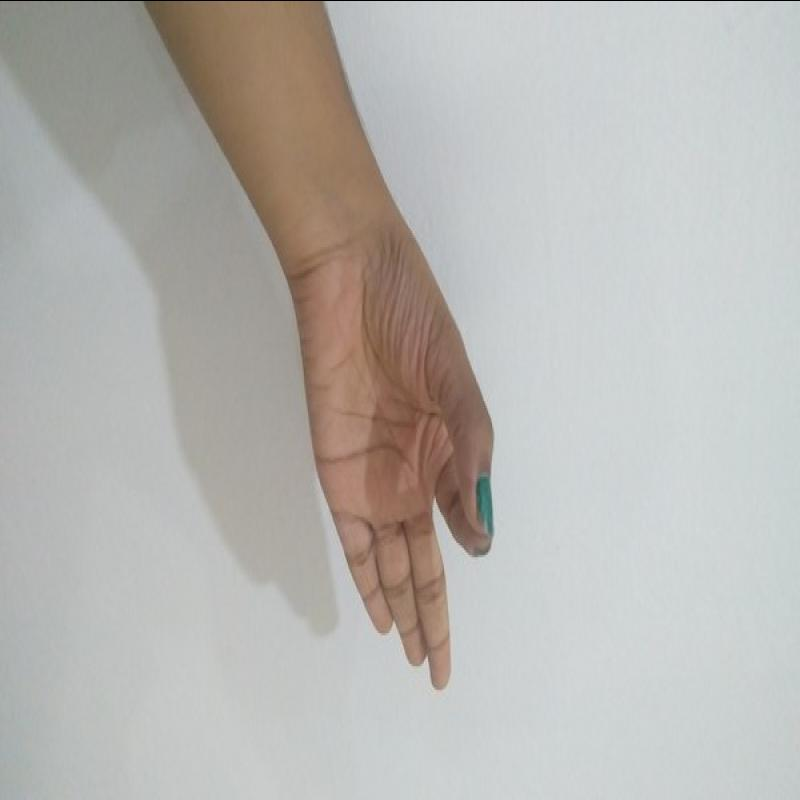Mudraakhyam: (286, 238, 511, 701)
